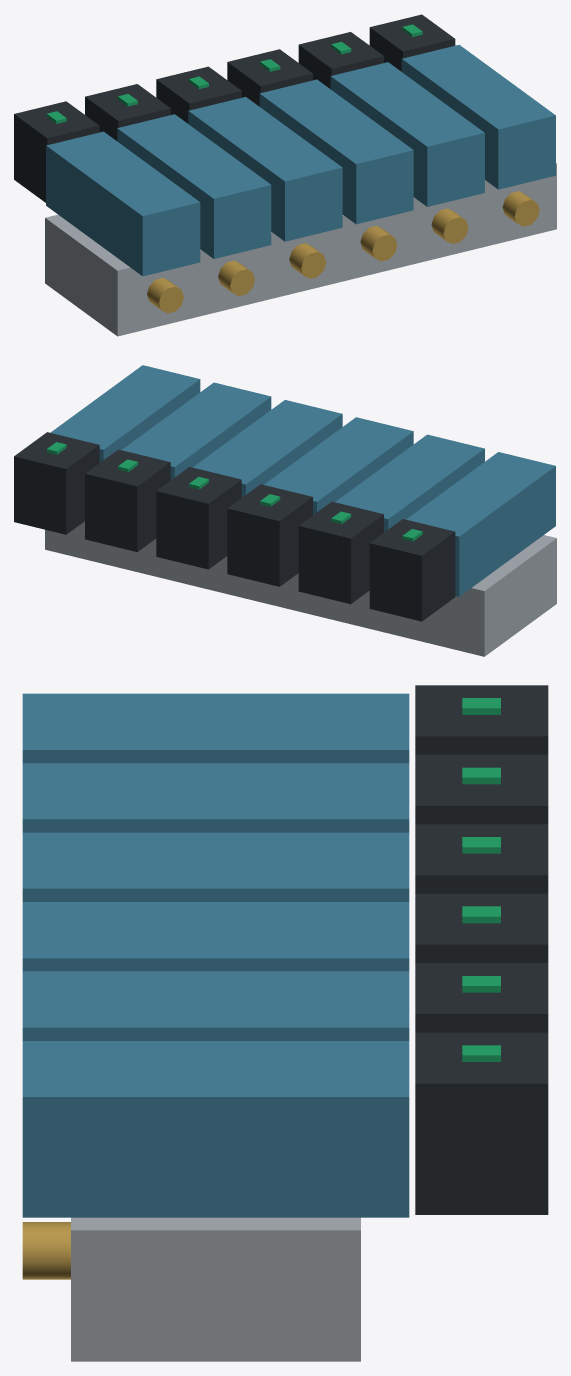
The picture shows the model from 3 angles, top to bottom: view 1: azimuth 30°, elevation 25°; view 2: azimuth 150°, elevation 25°; view 3: azimuth 270°, elevation 25°; orthographic projection. The views are drawn at different scales.
Visible parts, largest first — view 1: manifold, valve0, valve2, valve1, valve3, valve4, valve5, coil0, coil5, coil3, coil1, coil2 (+7 smaller); view 2: manifold, valve0, coil0, valve4, valve3, valve5, valve1, valve2, coil1, coil2, coil4, coil3 (+1 smaller); view 3: valve5, manifold, valve0, valve1, valve4, valve2, valve3, coil5, coil1, coil2, coil4, coil3 (+2 smaller).
Part boxes in pixels (x1,y1,x2,y2): manifold: (45,163,556,336); valve0: (46,131,200,276); valve2: (188,97,342,241); valve1: (117,114,271,258); valve3: (259,79,413,224); valve4: (330,62,484,206); valve5: (401,44,555,189); coil0: (14,101,99,202); coil5: (369,14,455,71); coil3: (227,49,312,106); coil1: (85,84,170,140); coil2: (156,66,241,123); manifold: (45,521,556,656); valve0: (406,452,555,596); coil0: (369,519,455,621); valve4: (121,382,271,479); valve3: (193,400,342,497); valve5: (50,365,200,462); valve1: (335,434,484,532); valve2: (264,417,413,514); coil1: (298,501,383,604); coil2: (227,484,312,586); coil4: (85,449,170,551); coil3: (156,467,241,569); valve5: (22,1041,409,1217); manifold: (71,1217,360,1361); valve0: (22,693,409,763); valve1: (22,763,409,832); valve4: (22,971,409,1040); valve2: (22,832,409,901); valve3: (22,902,409,971); coil5: (415,1032,548,1214); coil1: (415,754,548,824); coil2: (415,824,548,893); coil4: (415,963,548,1032); coil3: (415,893,548,962).
Bounding box in the file's own units: 0.42 × 0.1235 × 0.2175.
